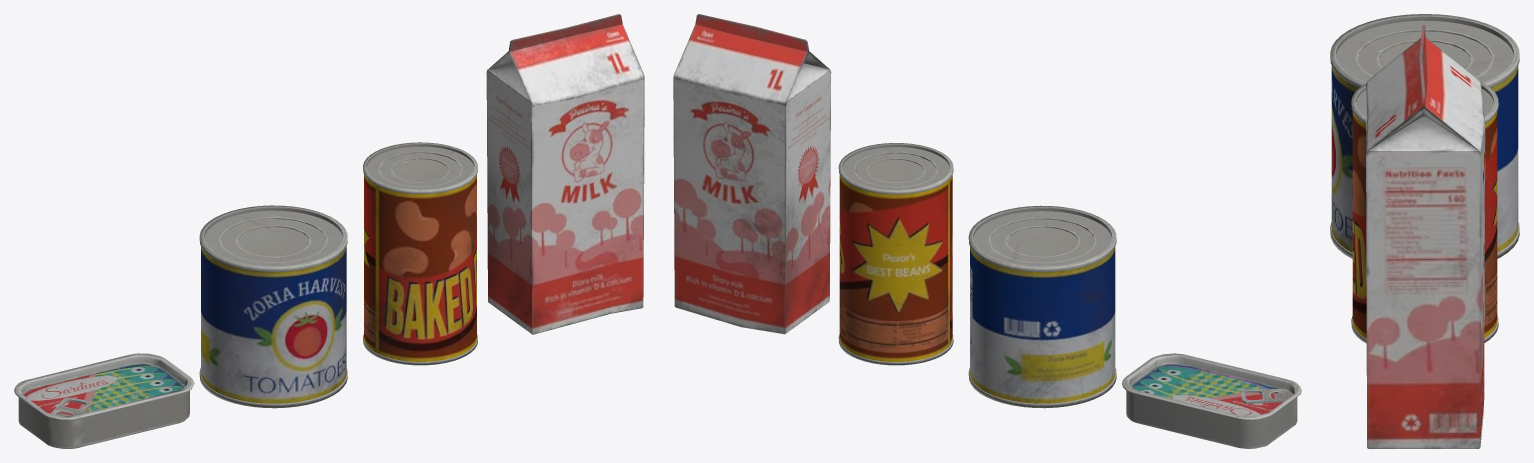
The model's file is long_life_food.glb.
3 views of the same model, side by side, from view 1: azimuth 30°, elevation 25°; view 2: azimuth 150°, elevation 25°; view 3: azimuth 270°, elevation 25° (orthographic). The views are drawn at different scales.
Visible parts, largest first — view 1: long_life_food_milk; view 2: long_life_food_milk; view 3: long_life_food_milk.
Boxes of the visible parts, x1,y1,x2,y2 form: long_life_food_milk: [14, 14, 644, 448]; long_life_food_milk: [673, 14, 1301, 448]; long_life_food_milk: [1330, 14, 1519, 448].
Bounding box in the file's own units: 0.5237 × 0.2376 × 0.1135.
Materials: 1 (1 with a texture image).
